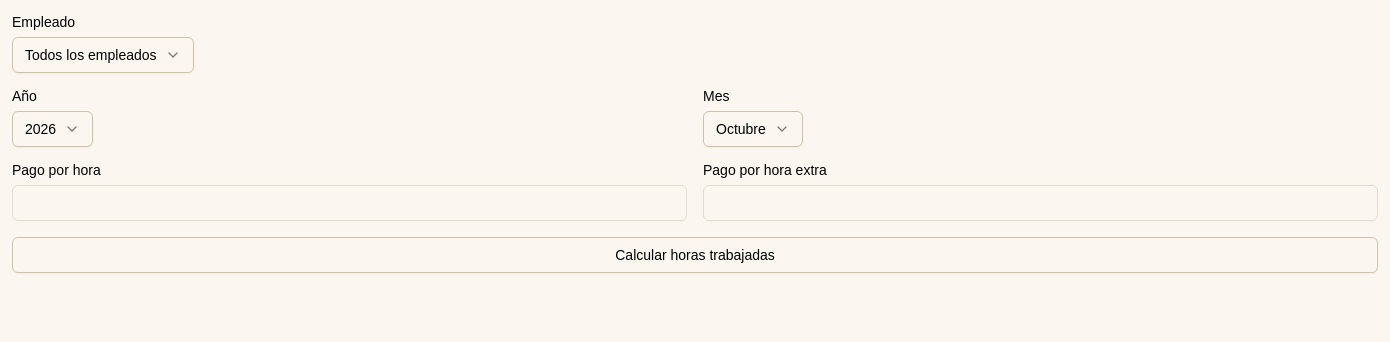
Test: LiquidarTab › shows empty message when no hours to calculate
Click the button "Calcular horas trabajadas" at (695, 255), box [12, 237, 1378, 273]
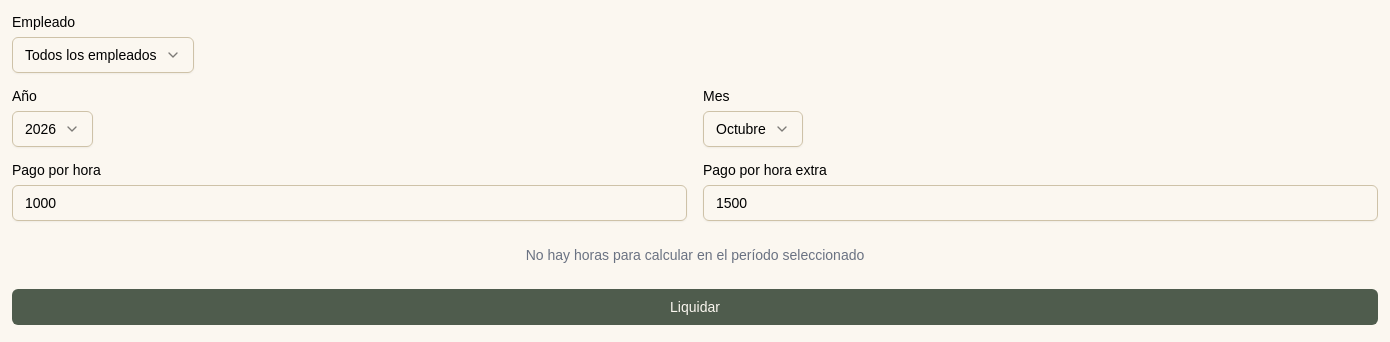
Result: the text "No hay horas para calcular en el período seleccionado" is shown at [526, 247, 864, 263]
Result: the button "Liquidar" is shown at [12, 289, 1378, 325]
